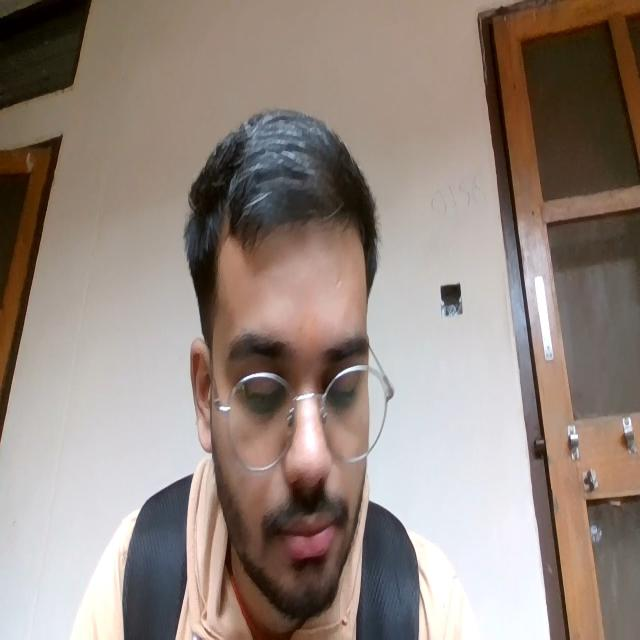drowsy: (209, 314, 371, 583)
